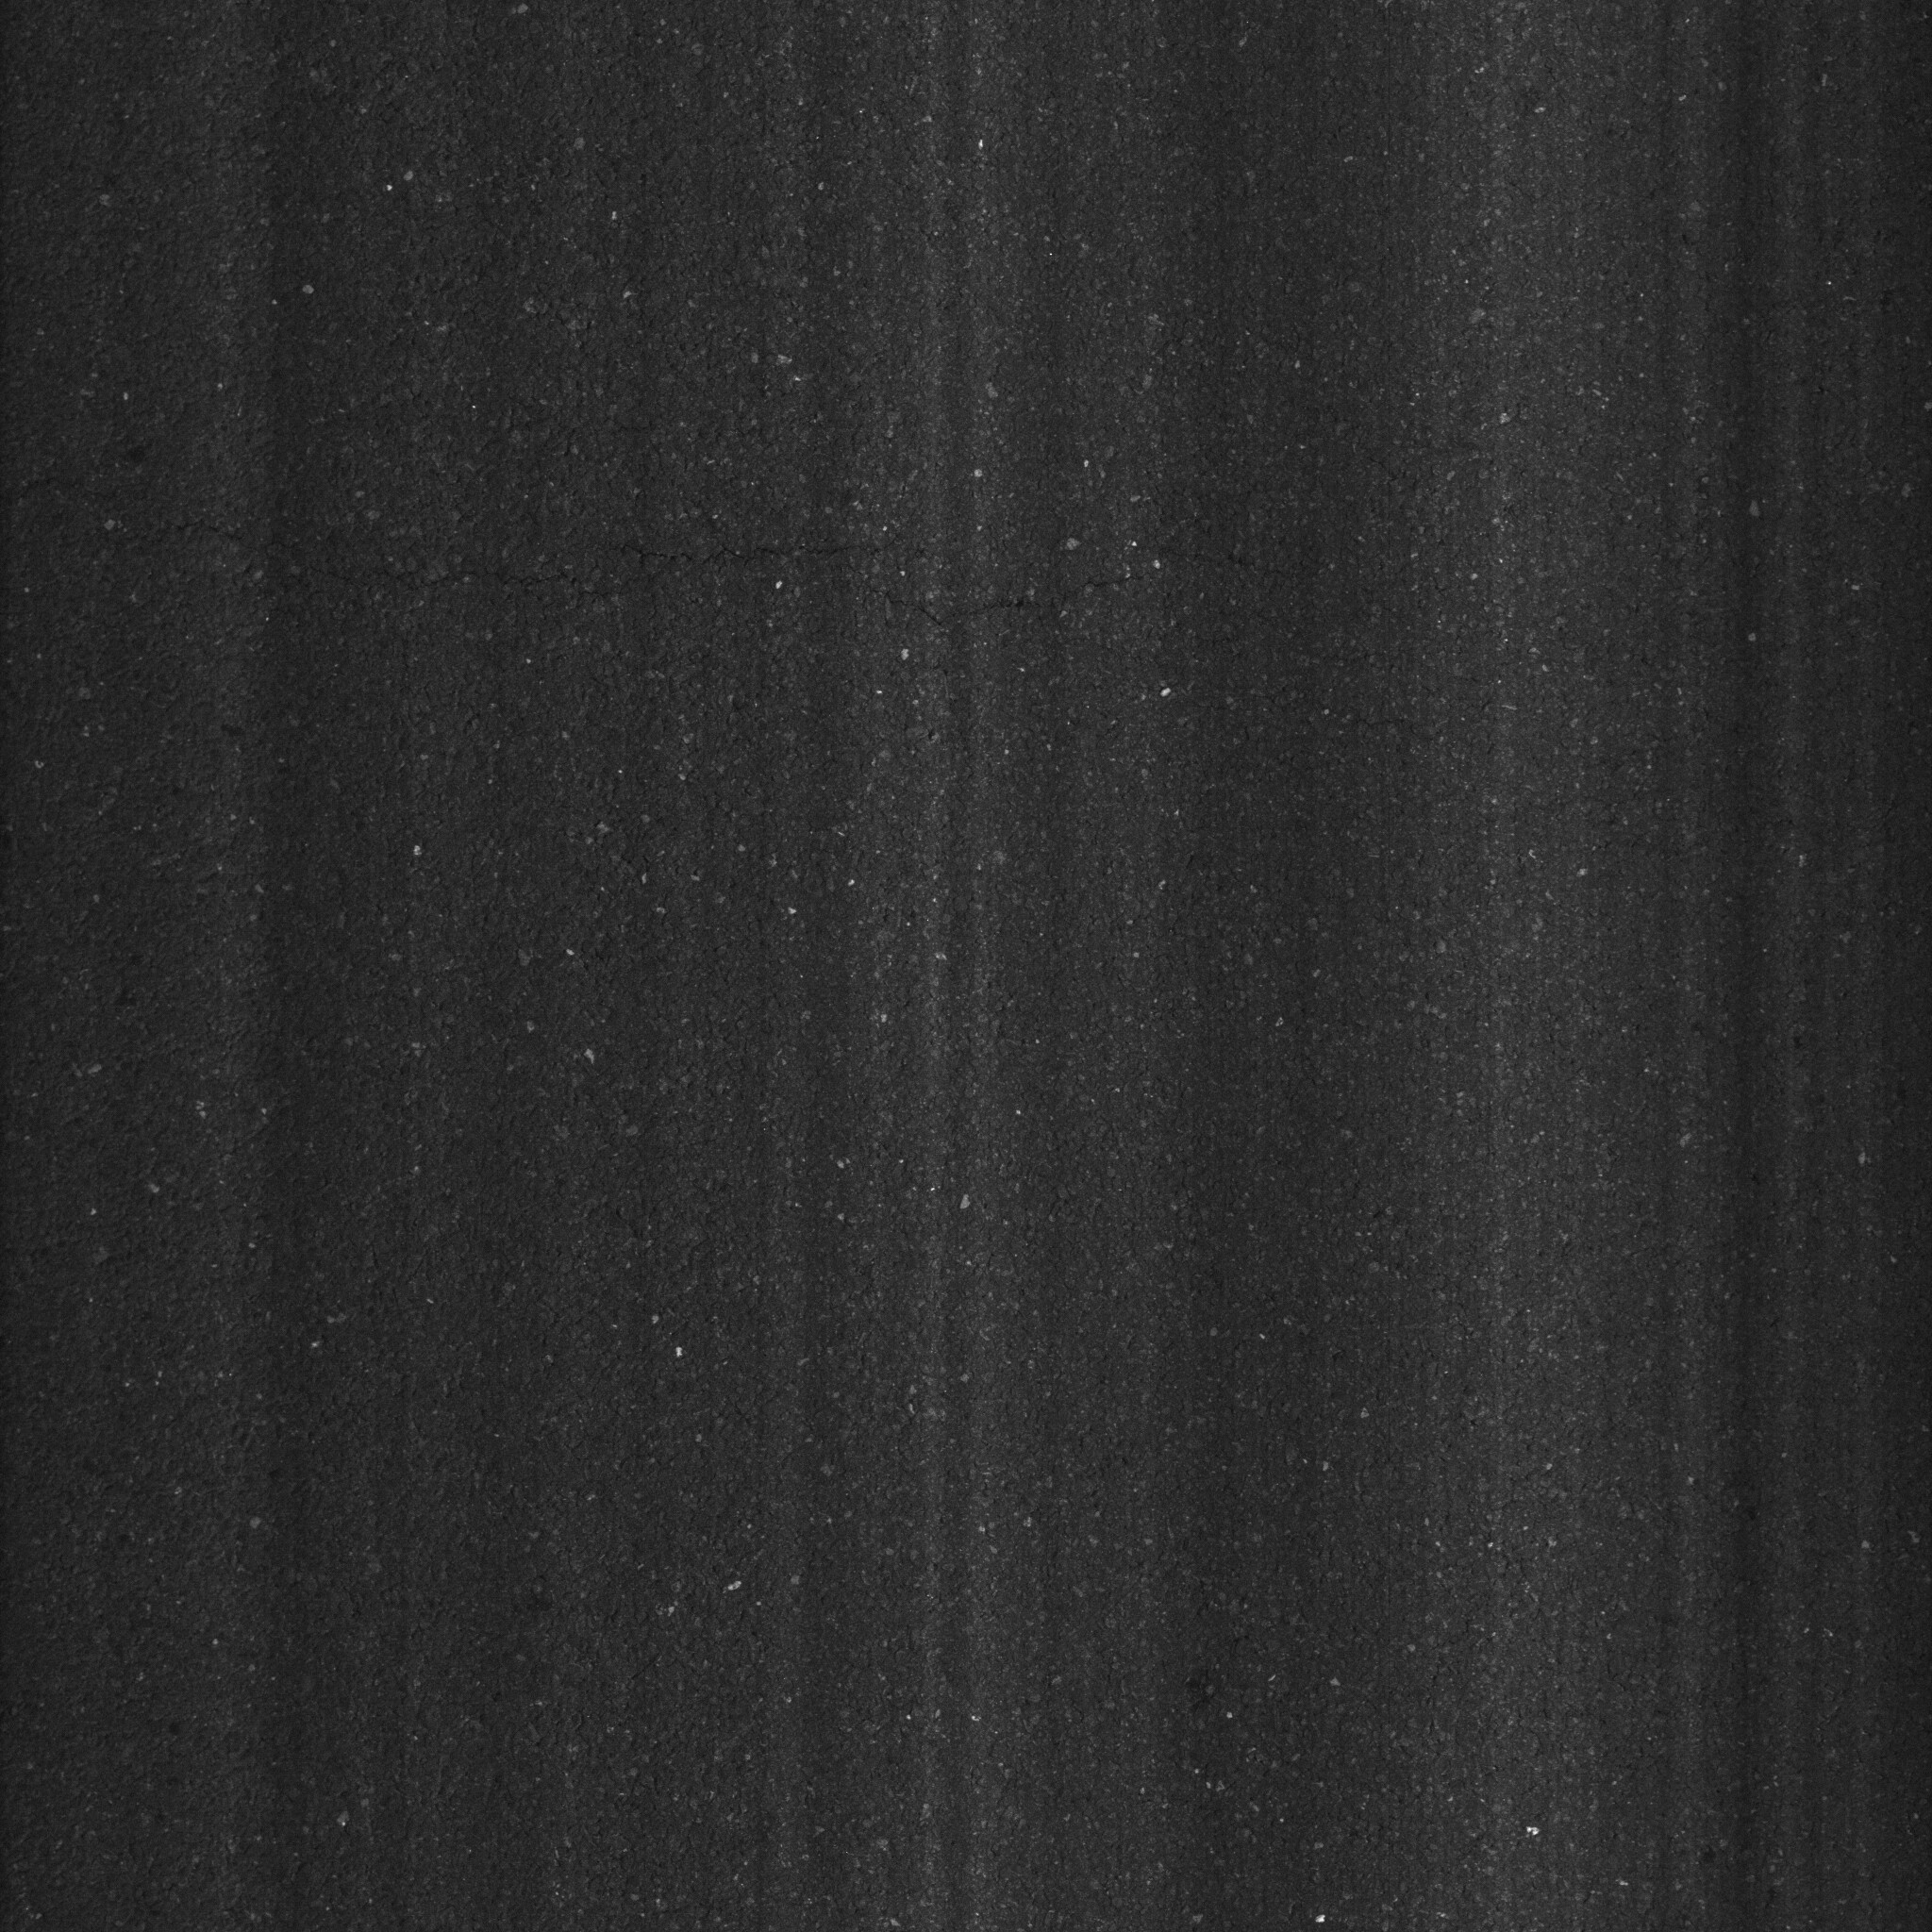transeverse: (163, 504, 1311, 697)
